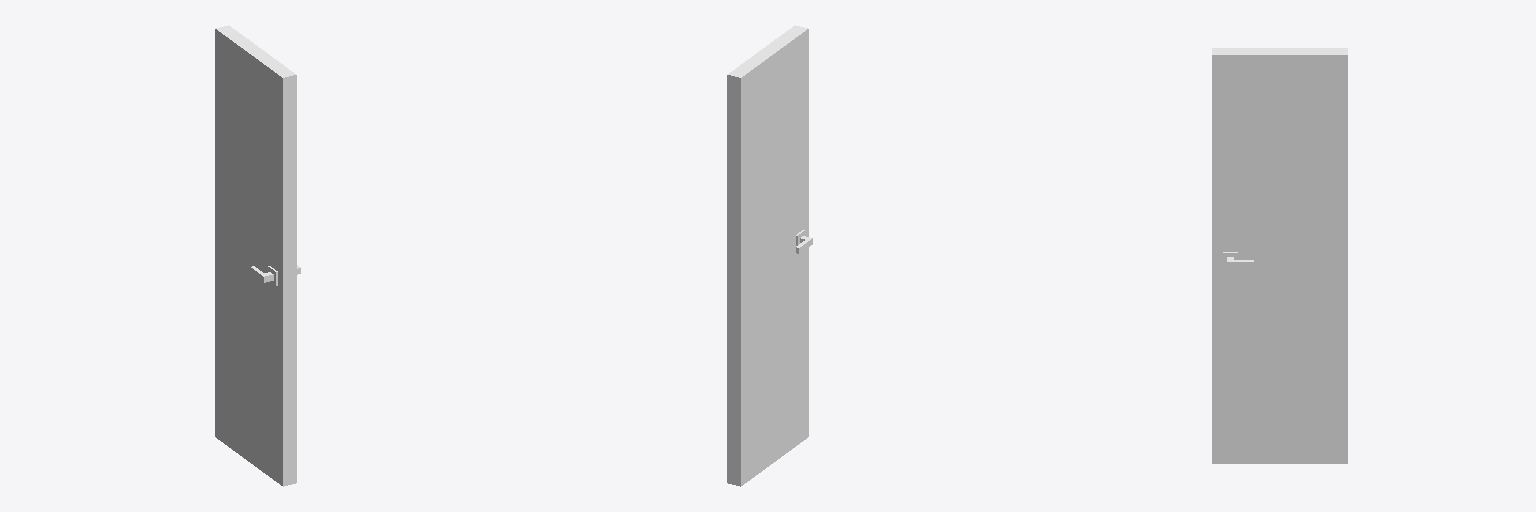
Rendered from door601_.obj.
The picture shows the model from 3 angles: view 1: azimuth 30°, elevation 25°; view 2: azimuth 150°, elevation 25°; view 3: azimuth 270°, elevation 25°; orthographic projection.
Parts seen in each view (by area): view 1: Cube_Cube; view 2: Cube_Cube; view 3: Cube_Cube.
Part boxes in pixels (x1,y1,x2,y2): Cube_Cube: (215,25,300,486); Cube_Cube: (727,25,812,486); Cube_Cube: (1212,48,1347,463).
Size of the model in its own units: 0.19 by 2 by 0.5997.